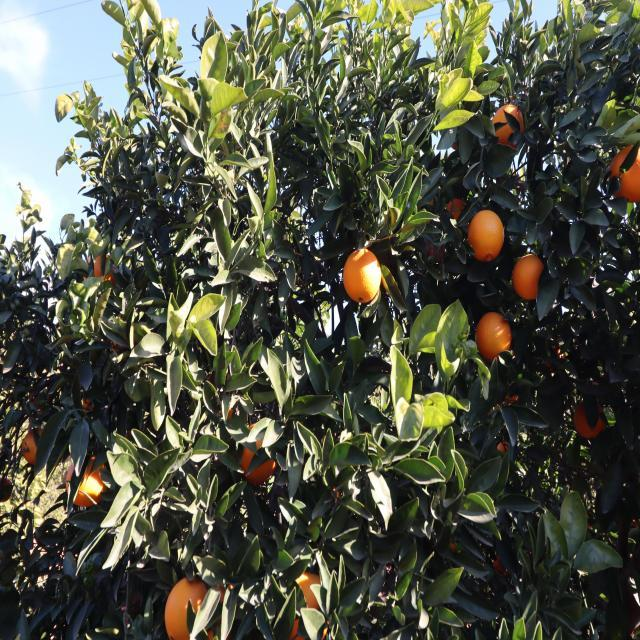Jeruk Sudah Matang: (162, 576, 232, 637), (283, 573, 336, 640), (240, 426, 287, 486), (341, 247, 383, 303), (66, 462, 111, 510), (468, 208, 506, 264), (475, 310, 513, 362), (609, 142, 640, 205), (572, 397, 610, 445), (512, 252, 548, 302), (492, 101, 526, 150), (217, 374, 249, 426), (440, 186, 469, 224), (90, 252, 120, 286), (22, 429, 48, 464), (496, 383, 524, 411), (492, 433, 514, 466), (80, 387, 100, 416)
